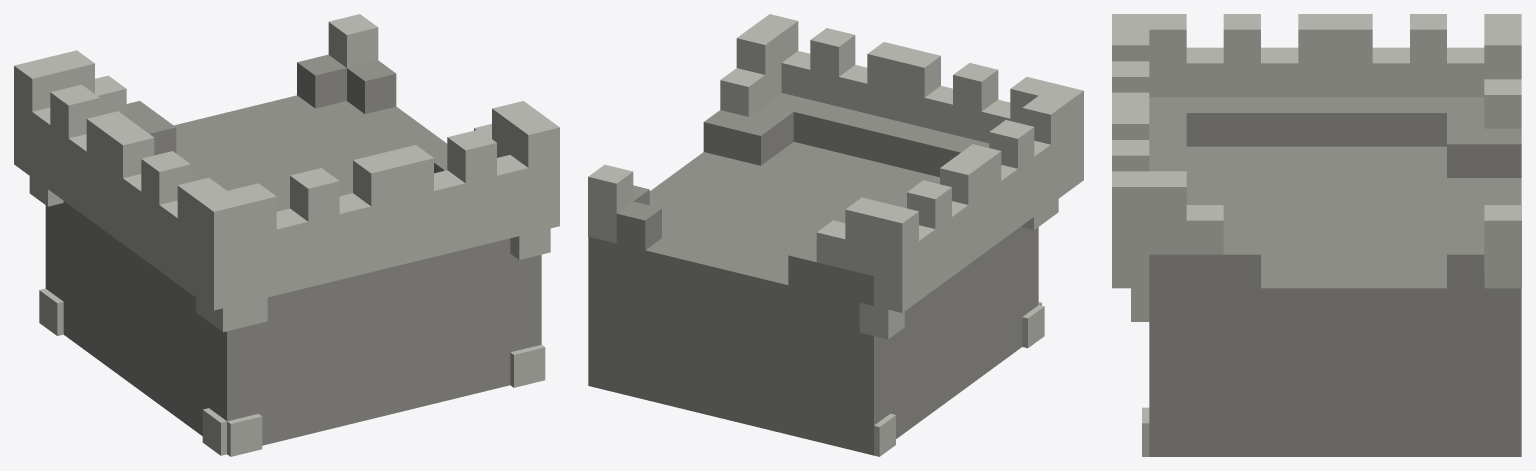
File: 1x1x5_corner.fbx
3 renders of one model, left to right at view 1: azimuth 30°, elevation 25°; view 2: azimuth 150°, elevation 25°; view 3: azimuth 270°, elevation 25°, orthographic. The views are drawn at different scales.
Parts seen in each view (by area): view 1: polySurface21; view 2: polySurface21; view 3: polySurface21.
Part boxes in pixels (<box>): polySurface21: <box>14,14,559,456</box>; polySurface21: <box>588,14,1083,456</box>; polySurface21: <box>1112,14,1521,456</box>.
Size of the model in its own units: 110 by 80 by 110.
Materials: 1 (1 with a texture image).
